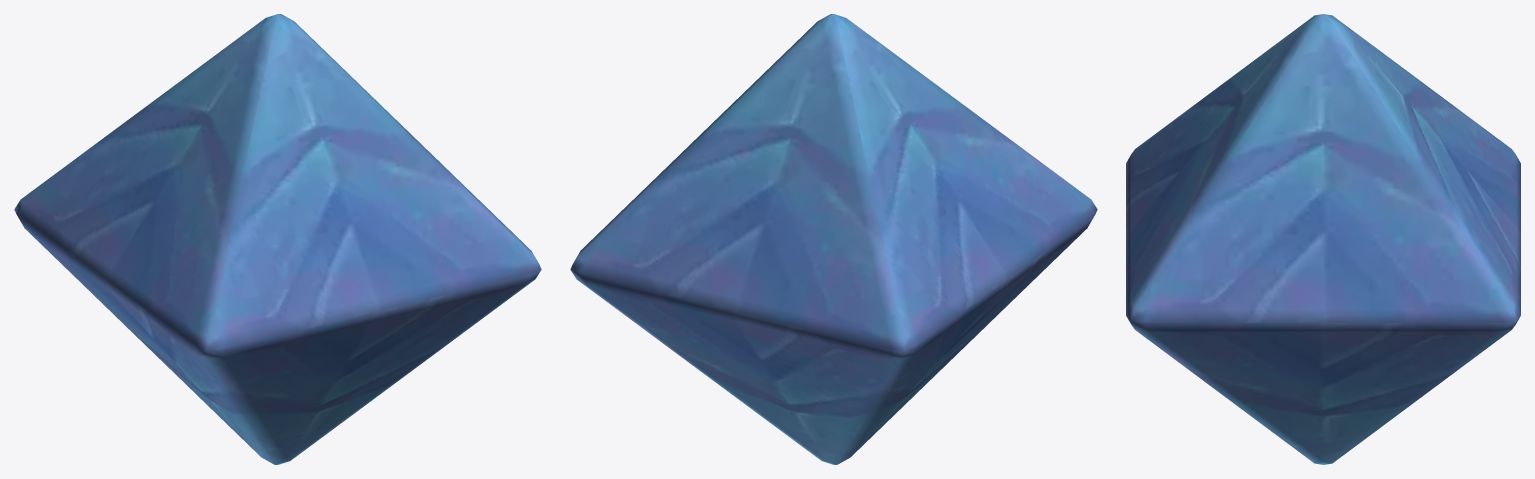
3 views of the same model, side by side, from view 1: azimuth 30°, elevation 25°; view 2: azimuth 150°, elevation 25°; view 3: azimuth 270°, elevation 25° (orthographic).
Size of the model in its own units: 2.53 by 3.18 by 2.53.
1 material, 1 textured.
